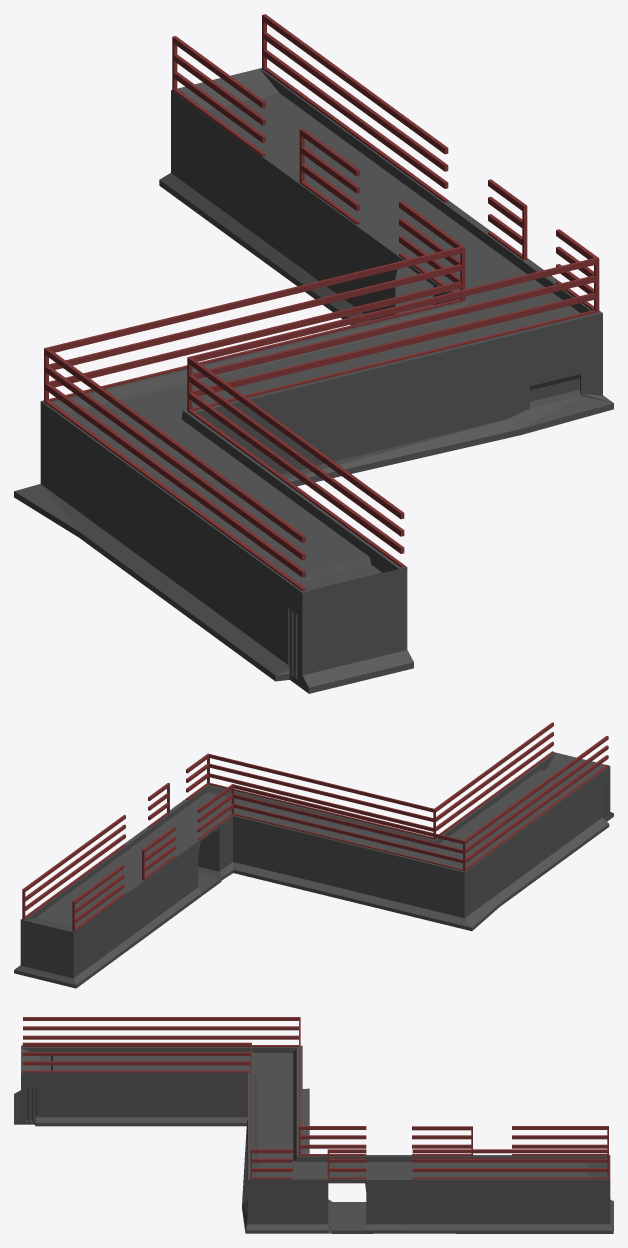
File: sadfsad.fbx
The picture shows the model from 3 angles, top to bottom: view 1: azimuth 30°, elevation 25°; view 2: azimuth 150°, elevation 25°; view 3: azimuth 270°, elevation 25°; orthographic projection. The views are drawn at different scales.
Parts seen in each view (by area): view 1: polySurface89, polySurface81, polySurface83, polySurface82, polySurface86, polySurface88, polySurface87, polySurface84, polySurface85; view 2: polySurface89, polySurface81, polySurface83, polySurface82, polySurface86, polySurface90, polySurface88, polySurface84, polySurface87, polySurface85; view 3: polySurface89, polySurface81, polySurface82, polySurface86, polySurface88, polySurface90, polySurface84, polySurface87, polySurface83, polySurface85.
Boxes of the visible parts, left/top/right/bottom form: polySurface89: left=14, top=68, right=613, bottom=693; polySurface81: left=44, top=247, right=461, bottom=591; polySurface83: left=190, top=229, right=599, bottom=410; polySurface82: left=187, top=356, right=404, bottom=567; polySurface86: left=262, top=14, right=448, bottom=202; polySurface88: left=172, top=36, right=265, bottom=156; polySurface87: left=299, top=128, right=359, bottom=224; polySurface84: left=399, top=201, right=465, bottom=301; polySurface85: left=488, top=179, right=527, bottom=260; polySurface89: left=14, top=752, right=613, bottom=988; polySurface81: left=233, top=736, right=608, bottom=871; polySurface83: left=186, top=753, right=433, bottom=839; polySurface82: left=433, top=722, right=553, bottom=839; polySurface86: left=22, top=815, right=125, bottom=919; polySurface90: left=198, top=830, right=221, bottom=895; polySurface88: left=72, top=865, right=124, bottom=931; polySurface84: left=197, top=784, right=234, bottom=839; polySurface87: left=142, top=827, right=175, bottom=880; polySurface85: left=148, top=783, right=169, bottom=827; polySurface89: left=14, top=1045, right=613, bottom=1233; polySurface81: left=23, top=1017, right=300, bottom=1153; polySurface82: left=22, top=1042, right=251, bottom=1072; polySurface86: left=412, top=1149, right=608, bottom=1179; polySurface88: left=512, top=1126, right=608, bottom=1155; polySurface90: left=327, top=1183, right=373, bottom=1233; polySurface84: left=298, top=1126, right=366, bottom=1155; polySurface87: left=412, top=1126, right=472, bottom=1155; polySurface83: left=250, top=1043, right=292, bottom=1179; polySurface85: left=327, top=1149, right=366, bottom=1179.
Bounding box in the file's own units: 47.81 × 12.77 × 85.5.
